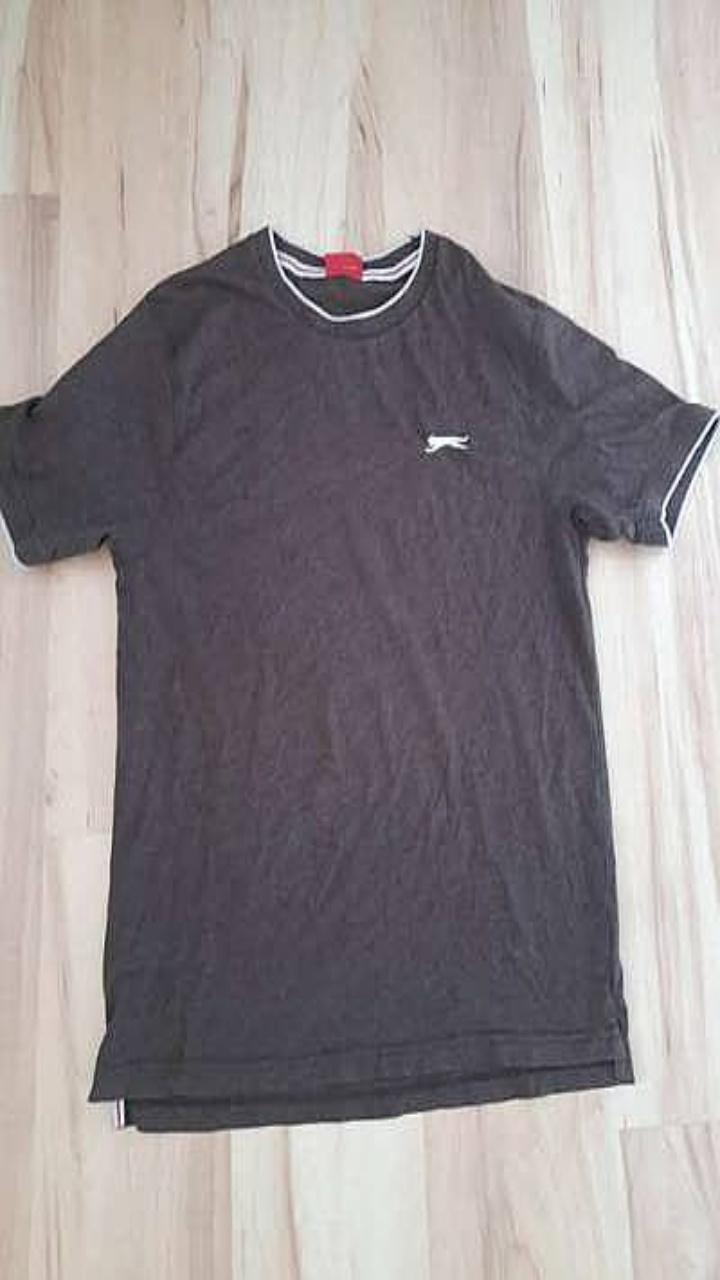T-Shirt: (0, 225, 717, 1130)
